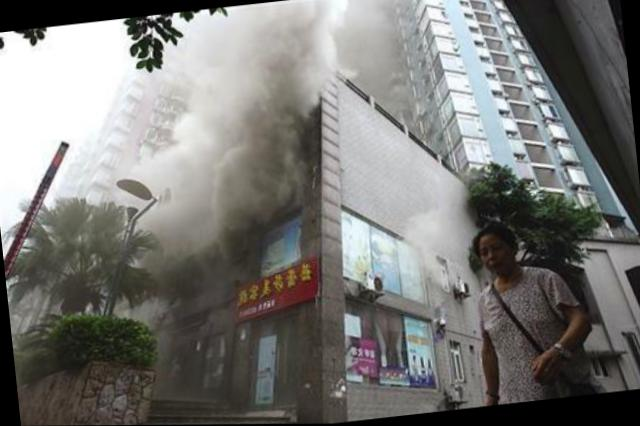smoke: (138, 266, 268, 391), (176, 79, 324, 182), (167, 171, 308, 271), (219, 0, 367, 88)
